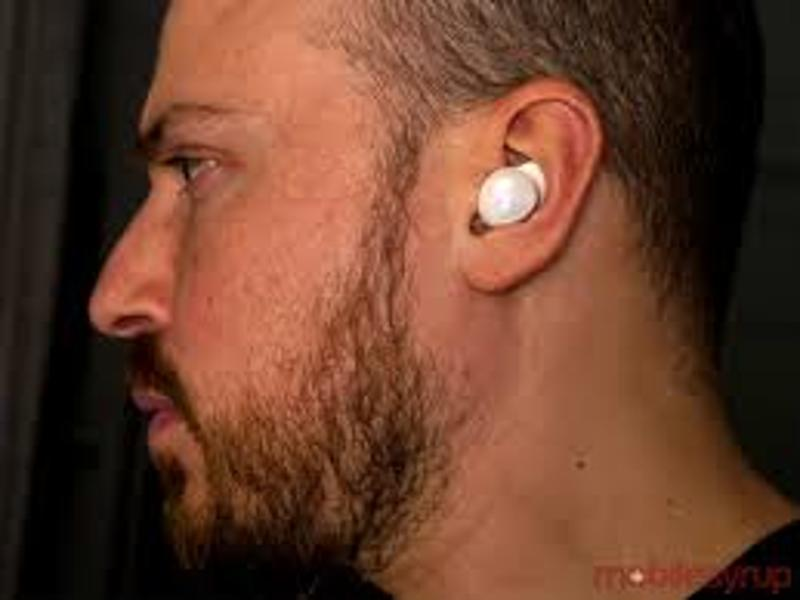headphone: (477, 158, 549, 230)
